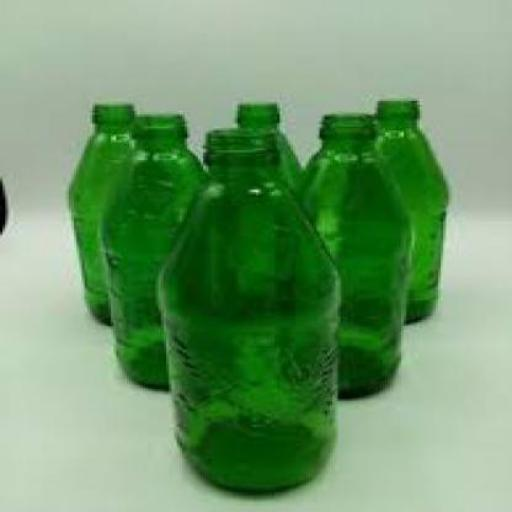glass: (153, 126, 338, 494), (94, 112, 200, 390), (296, 112, 398, 398), (370, 98, 446, 322), (66, 102, 135, 323), (232, 100, 298, 184)
